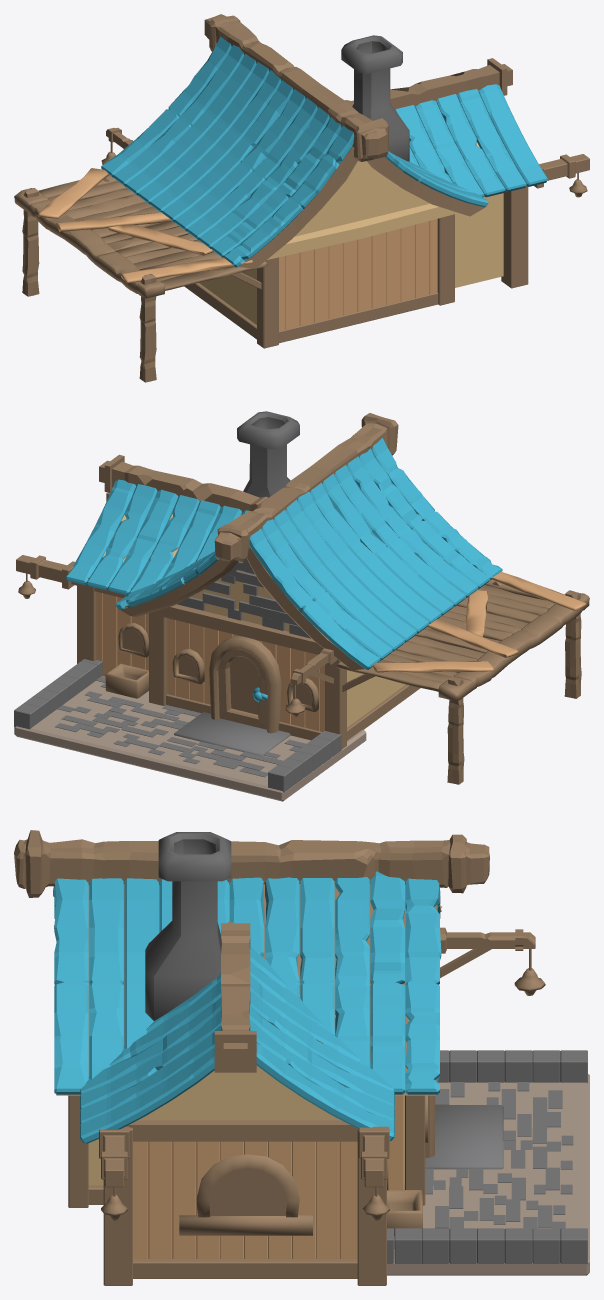
File: bEARhOUSE.fbx
The picture shows the model from 3 angles, top to bottom: view 1: azimuth 30°, elevation 25°; view 2: azimuth 150°, elevation 25°; view 3: azimuth 270°, elevation 25°; orthographic projection. The views are drawn at different scales.
Parts seen in each view (by area): view 1: Coloured_Npc_House.001; view 2: Coloured_Npc_House.001, Coloured_Npc_House.002; view 3: Coloured_Npc_House.001, Coloured_Npc_House.002, Coloured_Npc_House.003.
Boxes of the visible parts, x1,y1,x2,y2 form: Coloured_Npc_House.001: [14, 14, 589, 382]; Coloured_Npc_House.001: [14, 411, 589, 801]; Coloured_Npc_House.002: [122, 629, 311, 705]; Coloured_Npc_House.001: [14, 830, 589, 1285]; Coloured_Npc_House.002: [209, 1168, 286, 1215]; Coloured_Npc_House.003: [101, 968, 545, 1215].
Bounding box in the file's own units: 2656 × 1335 × 1967.
